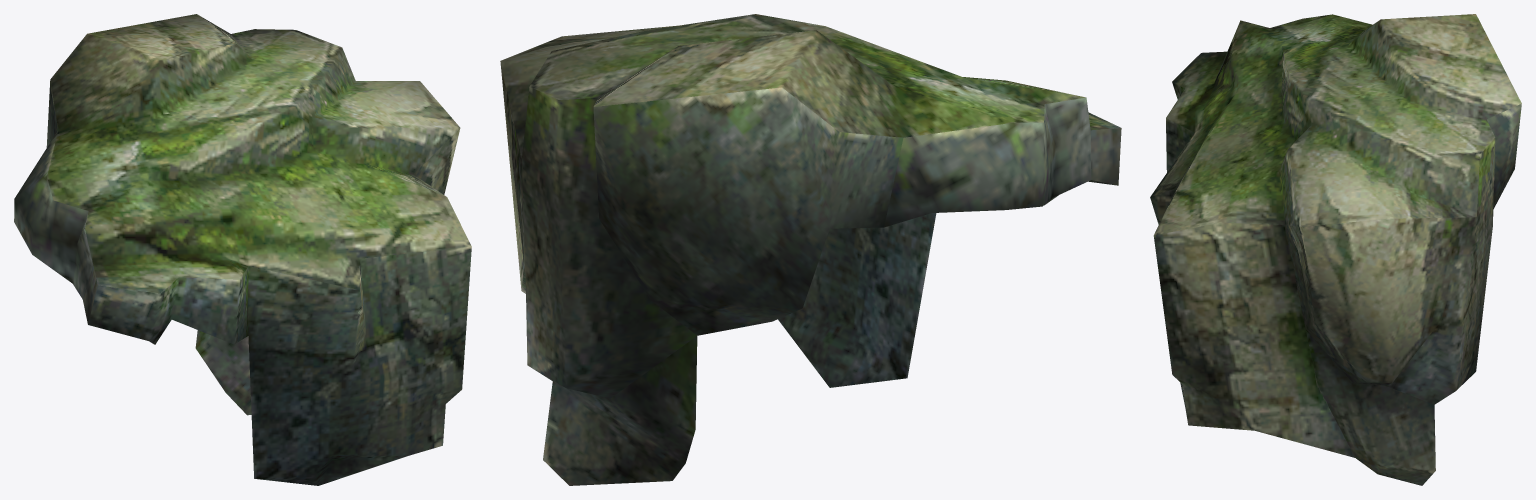
Rendered from S_Rock_Green047_1060_4.fbx.
The picture shows the model from 3 angles, left to right: view 1: azimuth 30°, elevation 25°; view 2: azimuth 150°, elevation 25°; view 3: azimuth 270°, elevation 25°; orthographic projection. The views are drawn at different scales.
Parts seen in each view (by area): view 1: S_Rock_Green047_1060_4; view 2: S_Rock_Green047_1060_4; view 3: S_Rock_Green047_1060_4.
Boxes of the visible parts, x1,y1,x2,y2 form: S_Rock_Green047_1060_4: [14, 14, 471, 485]; S_Rock_Green047_1060_4: [500, 14, 1121, 485]; S_Rock_Green047_1060_4: [1150, 14, 1521, 485].
Size of the model in its own units: 971 by 899 by 792.
1 material, 1 textured.
